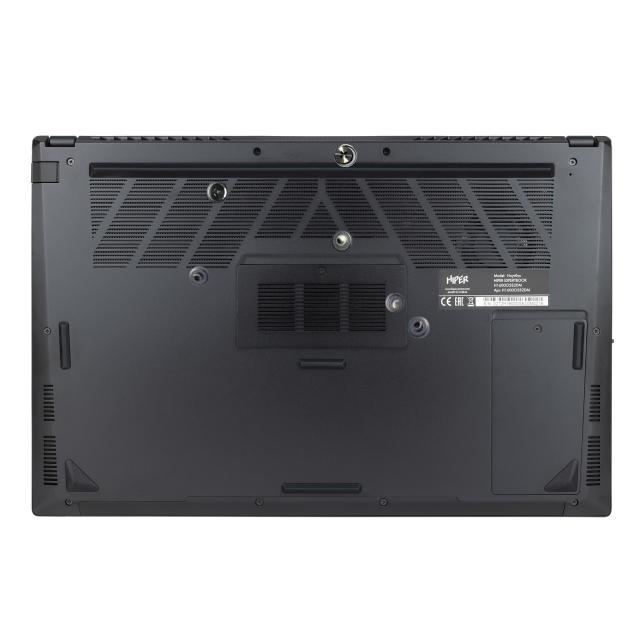lock: (334, 144, 357, 167), (205, 181, 228, 203)
missing_screw: (407, 316, 430, 339), (331, 230, 352, 252), (385, 292, 405, 312), (189, 266, 209, 286)
